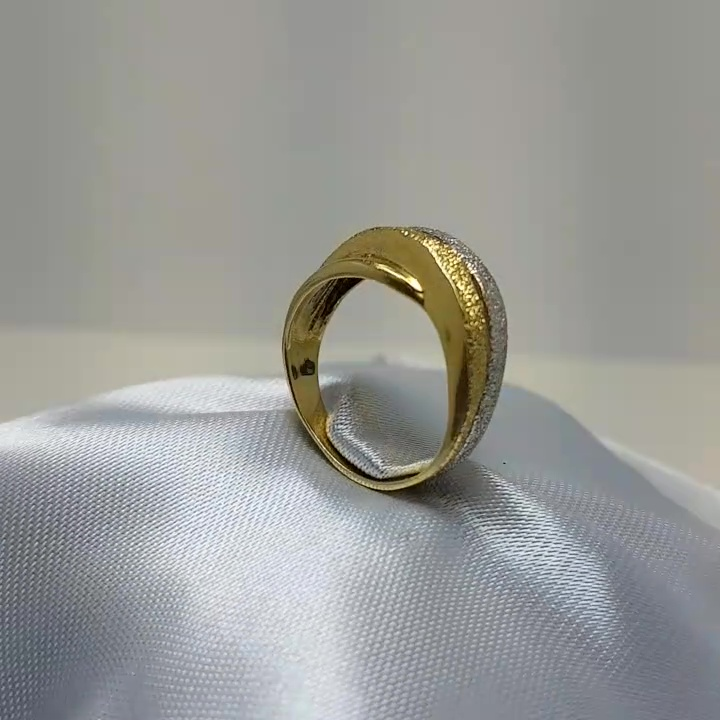Ring 5: (251, 209, 521, 508)
